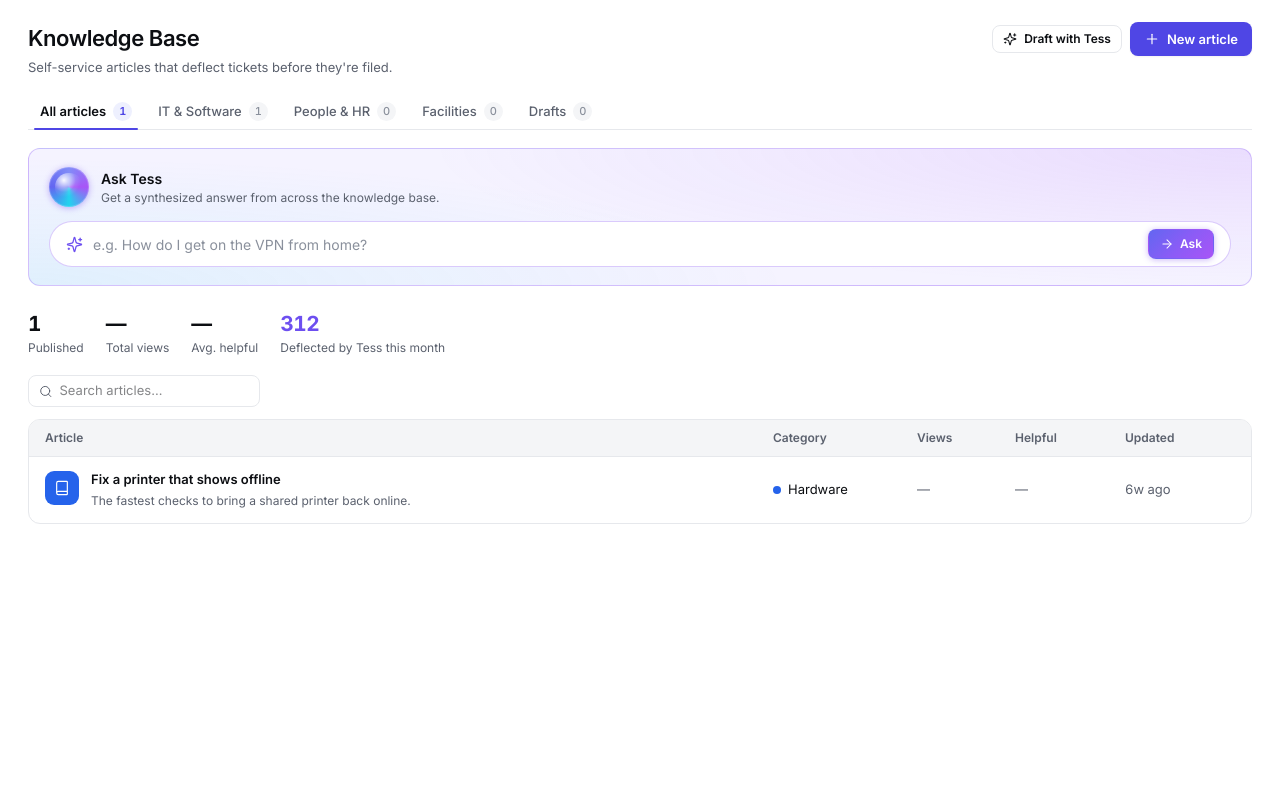
it: KnowledgeList › filters by search text
Expected: the text "Fix a printer that shows offline" is shown, [91,471,281,487]
Type "vpn" into the field with placeholder "Search articles…" at (154, 391), box [60,381,249,401]
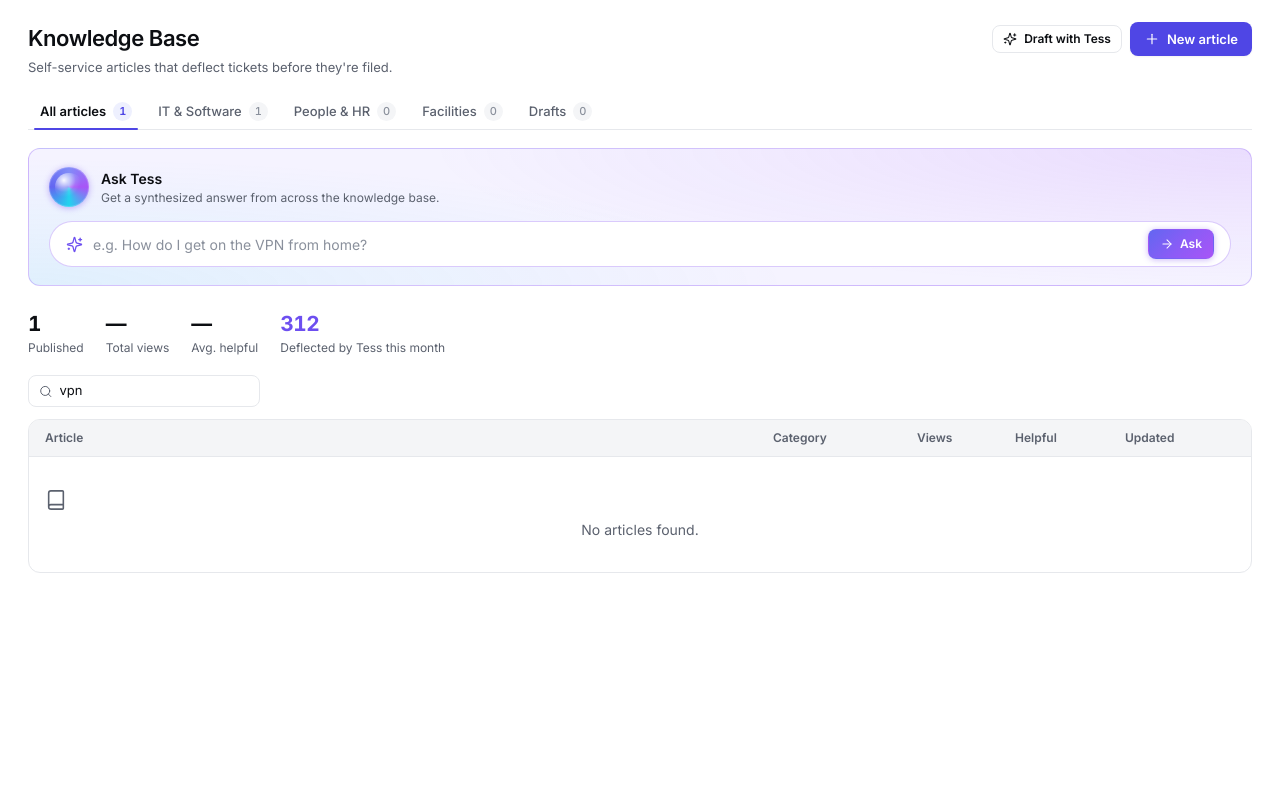
Expected: the text "Fix a printer that shows offline" is gone
